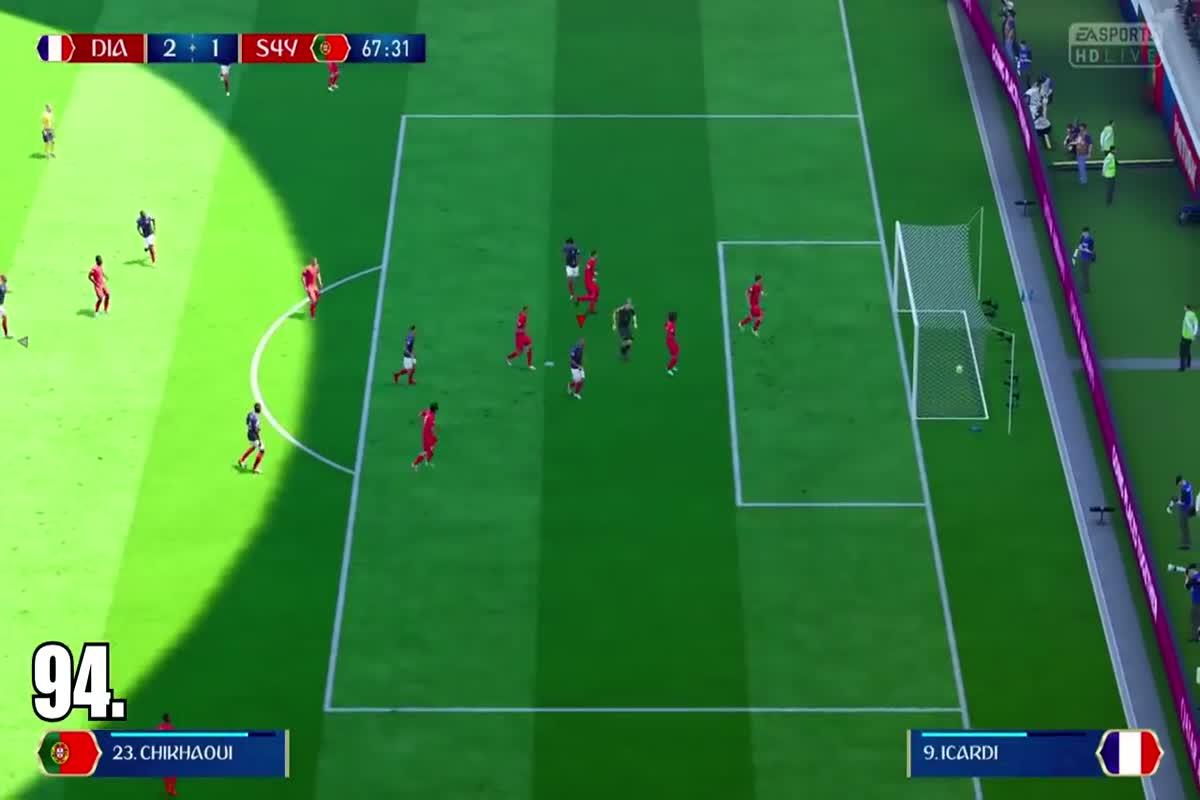ball: (952, 357, 971, 379)
